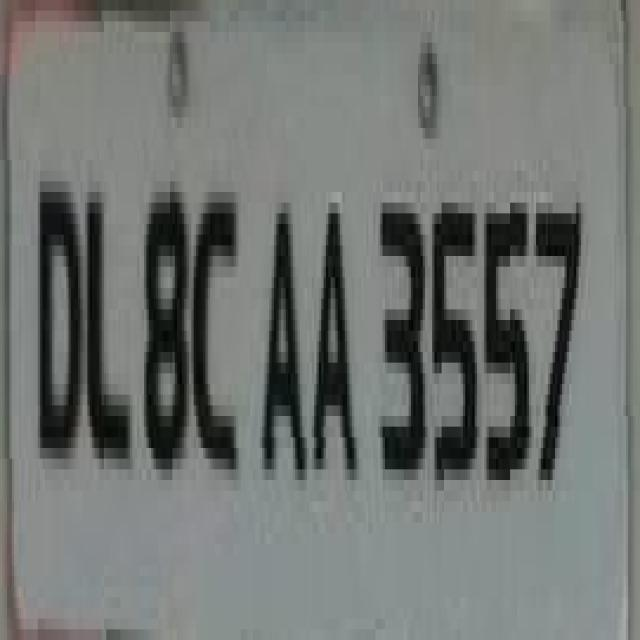plate: (2, 10, 602, 640)
